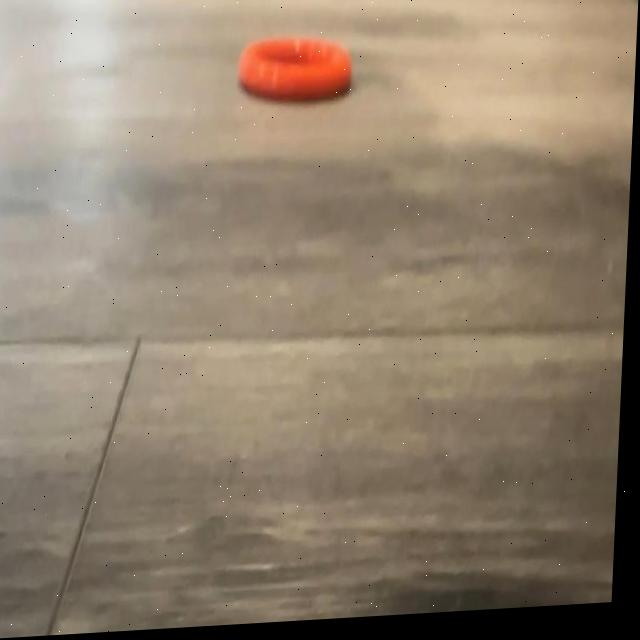note: (235, 29, 352, 111)
